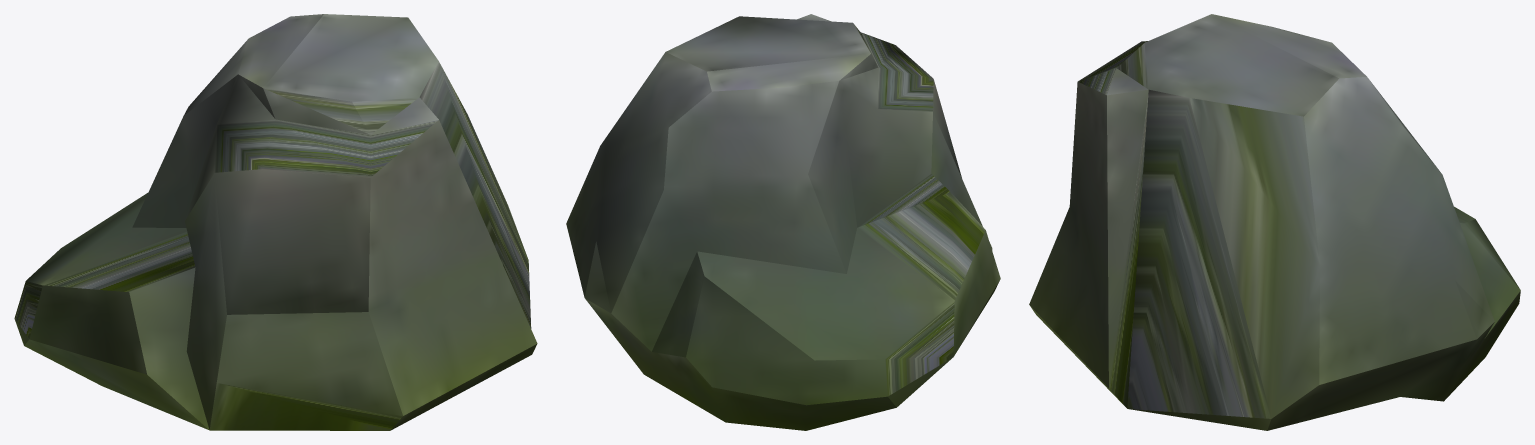
File: Rock_Medium_1.medium.gltf
The picture shows the model from 3 angles, left to right: view 1: azimuth 30°, elevation 25°; view 2: azimuth 150°, elevation 25°; view 3: azimuth 270°, elevation 25°; orthographic projection. The views are drawn at different scales.
Visible parts, largest first — view 1: Rock_Medium_1; view 2: Rock_Medium_1; view 3: Rock_Medium_1.
Boxes of the visible parts, <box> form: Rock_Medium_1: <box>14,14,537,430</box>; Rock_Medium_1: <box>566,14,1000,430</box>; Rock_Medium_1: <box>1029,14,1520,430</box>.
Size of the model in its own units: 3.21 by 2.22 by 2.99.
1 material, 1 textured.
